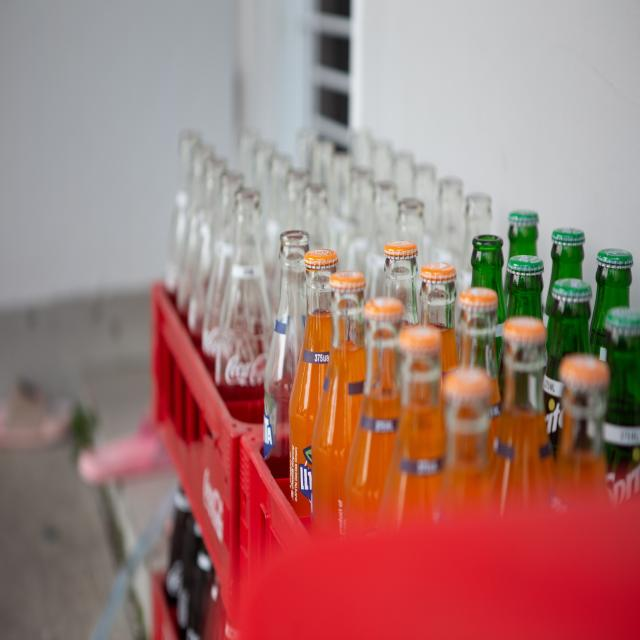Bottle: (312, 272, 366, 538), (345, 298, 403, 535), (379, 327, 445, 529), (289, 250, 338, 517), (490, 317, 553, 515), (215, 189, 272, 401), (264, 231, 309, 477), (555, 354, 609, 510), (544, 279, 591, 457), (202, 172, 243, 373), (441, 366, 494, 520), (188, 158, 226, 347), (459, 288, 501, 459), (603, 308, 639, 505), (176, 145, 212, 324), (165, 130, 200, 296), (543, 228, 584, 351), (590, 249, 633, 360), (263, 155, 291, 312), (420, 262, 459, 374), (472, 235, 506, 358), (365, 181, 397, 299), (176, 518, 203, 639), (458, 193, 491, 291), (166, 487, 193, 606), (459, 193, 491, 290), (346, 168, 375, 272), (329, 152, 355, 263), (432, 178, 464, 267), (385, 241, 418, 324), (186, 544, 214, 639), (507, 255, 543, 319), (507, 256, 543, 319), (395, 198, 428, 265), (395, 198, 428, 264), (416, 164, 438, 260), (301, 183, 328, 249), (350, 167, 374, 239), (375, 181, 398, 254), (254, 141, 275, 218), (330, 152, 352, 219), (508, 211, 538, 259), (285, 170, 309, 229), (239, 129, 259, 188), (311, 140, 334, 187), (394, 152, 415, 199), (296, 129, 318, 171), (349, 129, 372, 167), (373, 140, 394, 180)
